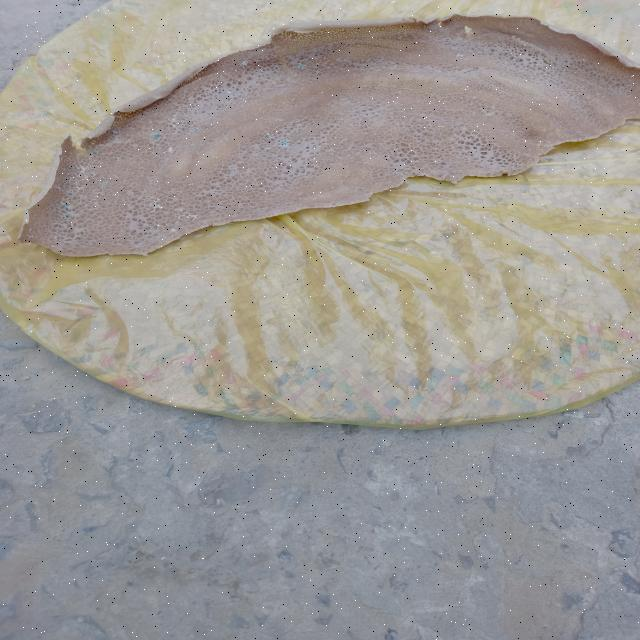injera_mold: (75, 163, 98, 181), (148, 195, 164, 212), (166, 113, 184, 127), (150, 131, 167, 141), (178, 215, 200, 222), (59, 202, 72, 211), (265, 131, 276, 139), (61, 213, 72, 220), (108, 128, 119, 134), (91, 147, 100, 154), (239, 60, 249, 66), (99, 181, 108, 187), (166, 146, 175, 152), (280, 140, 289, 146), (298, 63, 307, 69), (170, 226, 178, 232), (75, 186, 84, 191), (67, 190, 74, 196), (64, 177, 71, 182), (192, 128, 200, 132), (276, 118, 284, 122), (456, 54, 464, 58), (92, 191, 102, 194), (212, 155, 219, 159), (116, 156, 121, 161), (68, 166, 74, 170), (188, 183, 195, 186), (264, 147, 269, 151), (50, 245, 55, 248), (190, 143, 195, 146), (227, 90, 232, 93), (162, 151, 166, 154)
